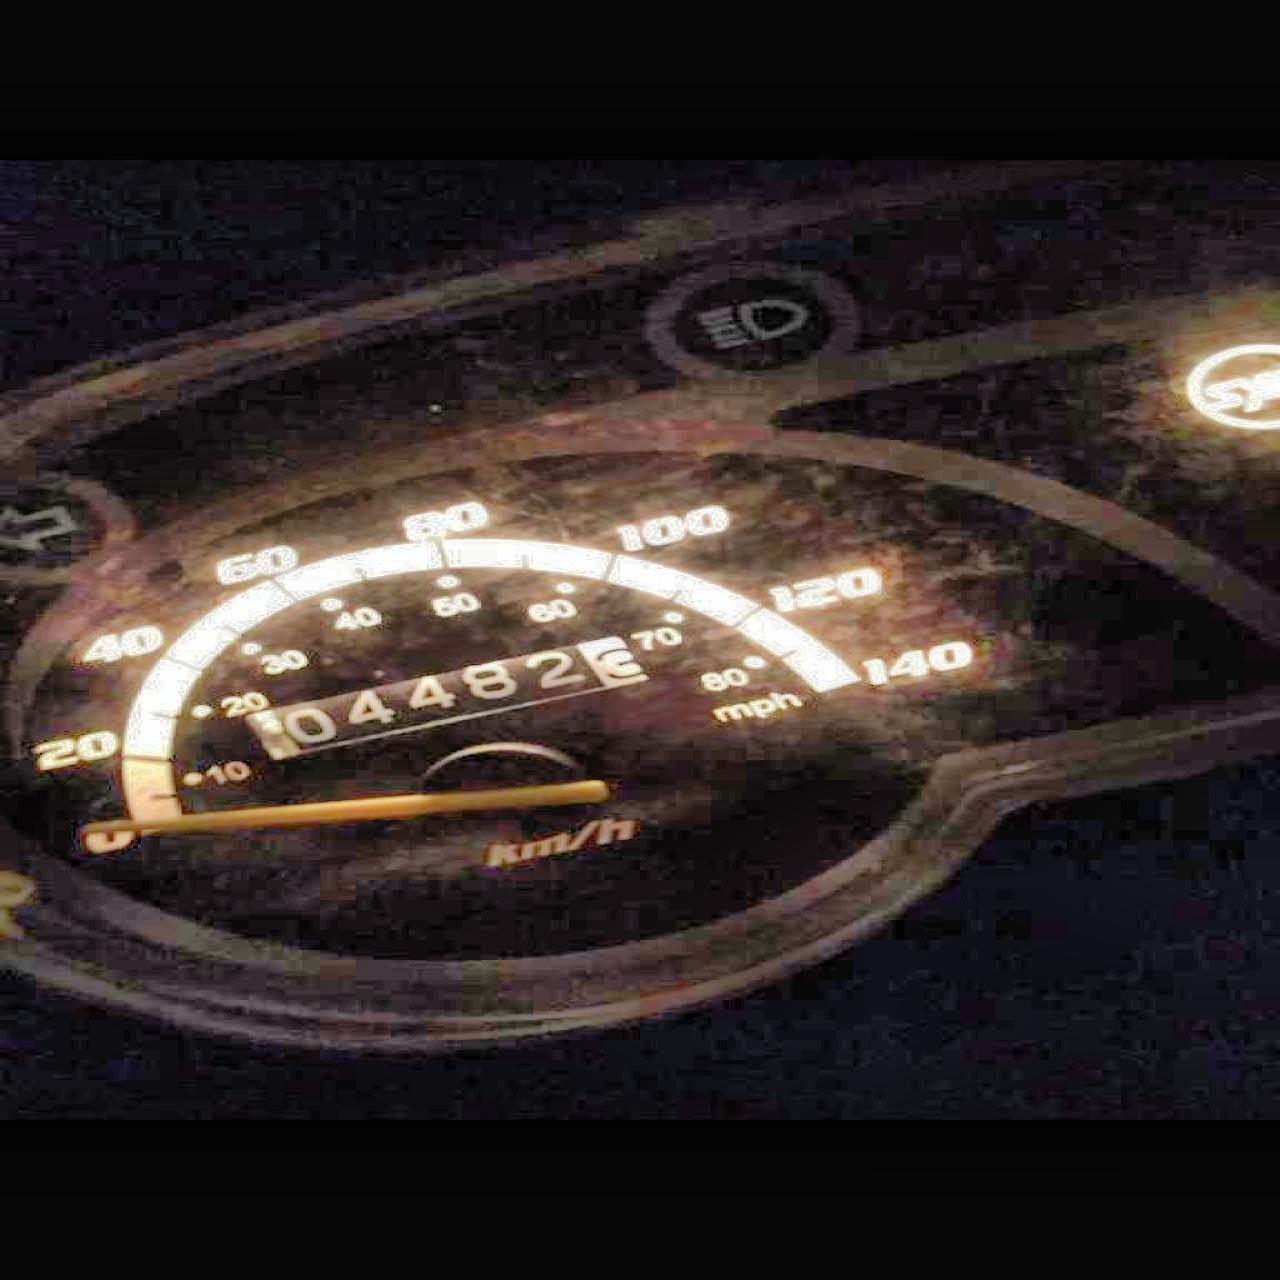0: (280, 707, 333, 742), (278, 649, 306, 669), (240, 692, 268, 710)
2: (523, 651, 585, 689)
3: (593, 647, 642, 679), (258, 653, 286, 674)
4: (404, 674, 456, 708), (347, 688, 393, 723)
7: (628, 631, 653, 651)
8: (457, 662, 516, 699)
odometer: (236, 633, 652, 763)
